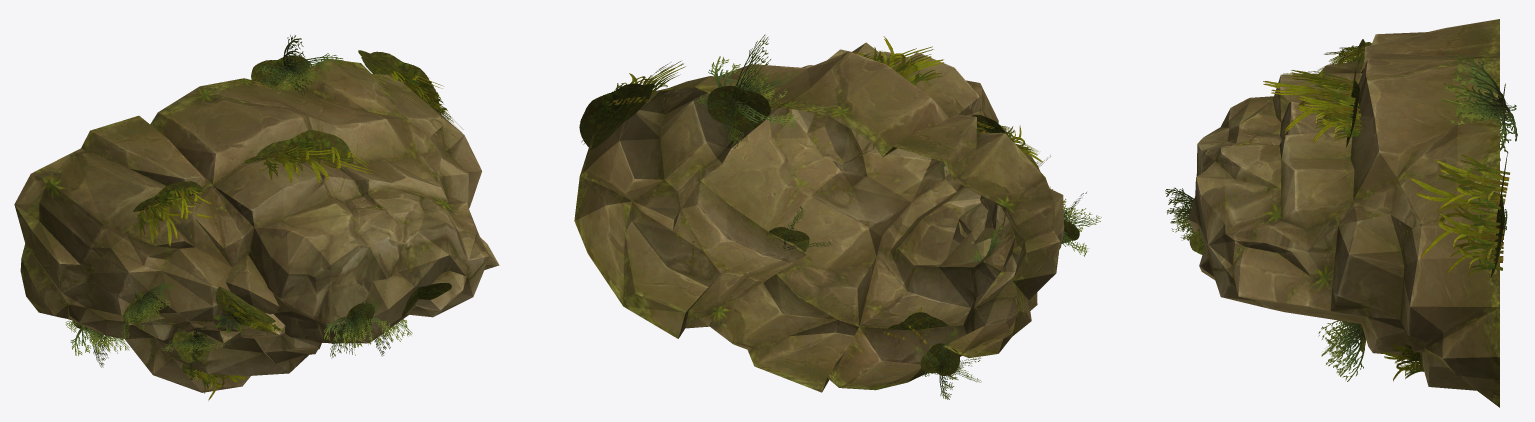
File: juqing_yewai_597_shitou02.obj
3 renders of one model, left to right at view 1: azimuth 30°, elevation 25°; view 2: azimuth 150°, elevation 25°; view 3: azimuth 270°, elevation 25°, orthographic. The views are drawn at different scales.
Parts seen in each view (by area): view 1: juqing_yewai_597_shitou01; view 2: juqing_yewai_597_shitou01; view 3: juqing_yewai_597_shitou01.
Part boxes in pixels (x1,y1,x2,y2): juqing_yewai_597_shitou01: [14, 35, 499, 400]; juqing_yewai_597_shitou01: [574, 34, 1101, 399]; juqing_yewai_597_shitou01: [1165, 19, 1517, 407].
Bounding box in the file's own units: 485 × 322 × 312.
Materials: 2 (2 with a texture image).
